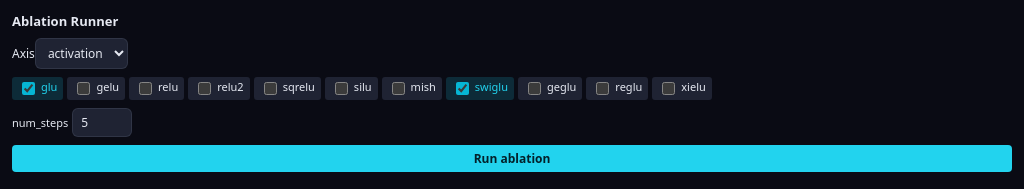
Test: AblationsTab › switching axis swaps variant list
The width and height of the screenshot is (1024, 189).
Select "optimizer" in the dropdown with test id "ablation-axis" at (81, 54), box [35,38,128,69]
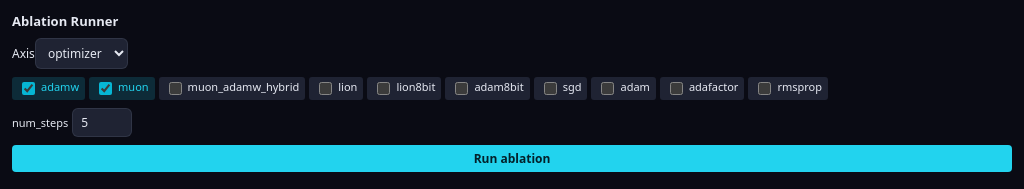
Now the text "lion" is shown, box [309,77,363,100]
Now the label with test id "ablation-variant-swiglu" is gone
